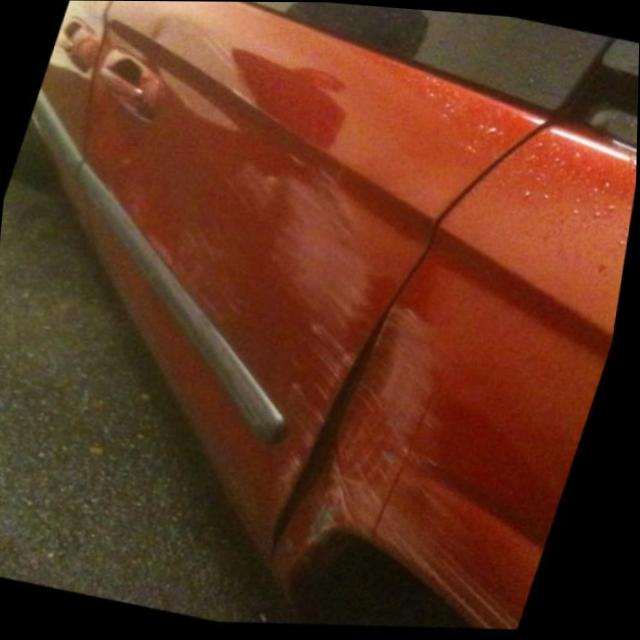Scratch: (222, 169, 461, 528)
